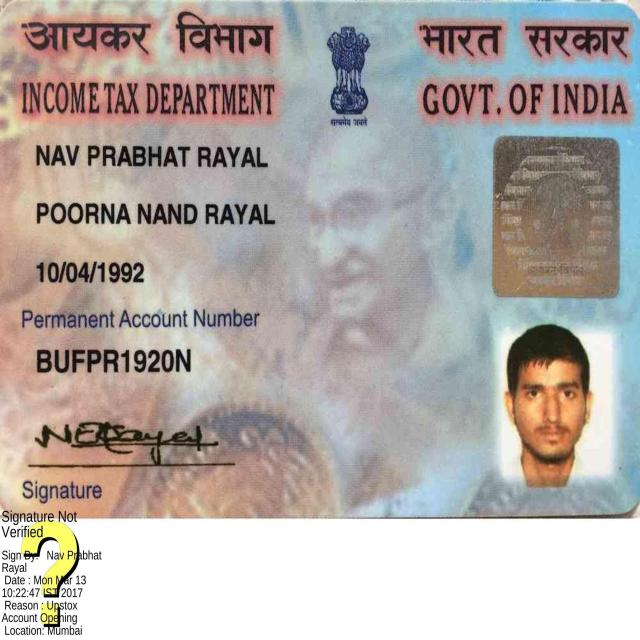pan_card: (0, 4, 640, 515)
